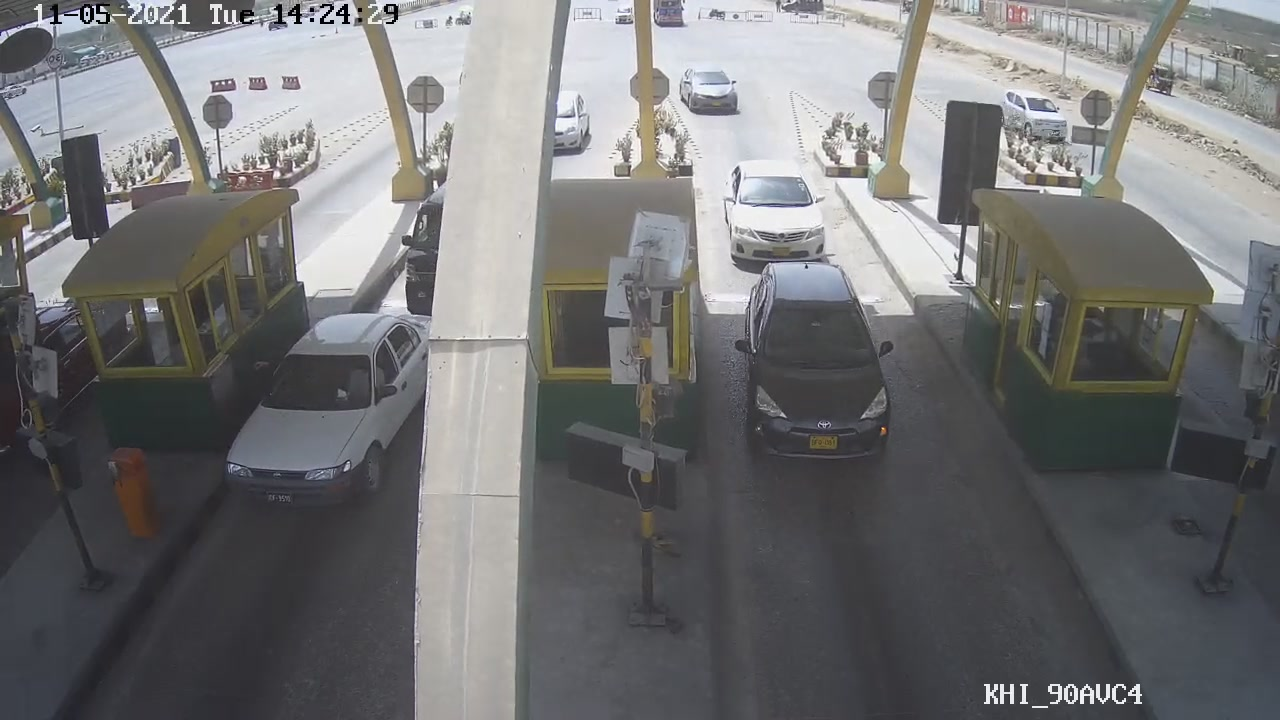F1: (732, 258, 904, 459)
